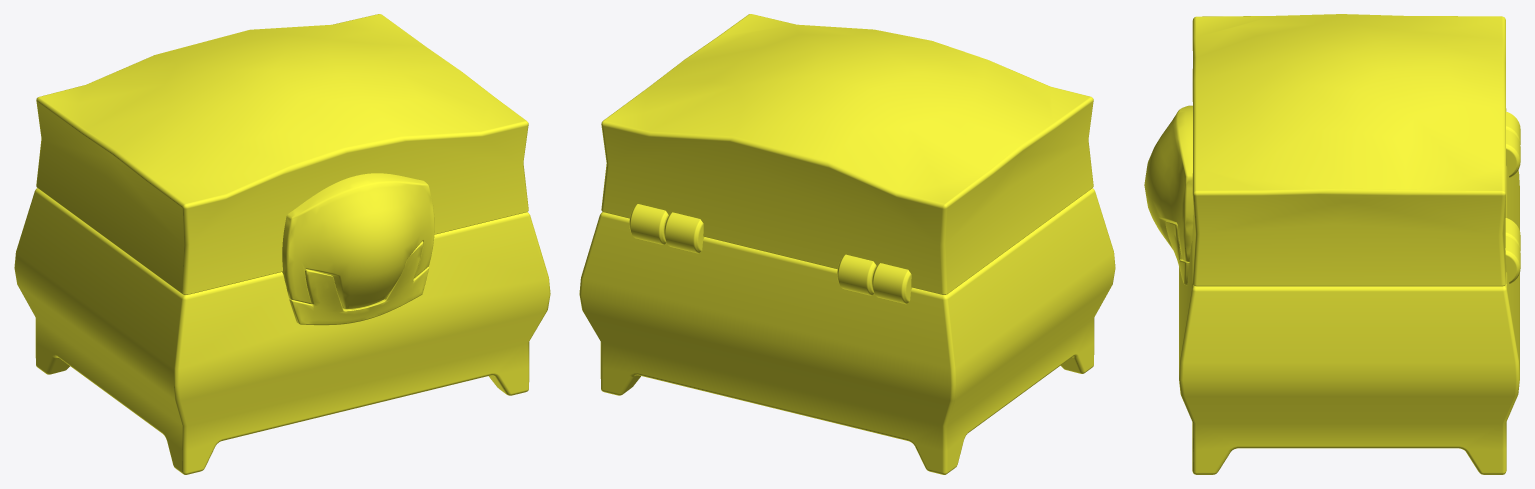
Rendered from chest-3.glb.
The picture shows the model from 3 angles, left to right: view 1: azimuth 30°, elevation 25°; view 2: azimuth 150°, elevation 25°; view 3: azimuth 270°, elevation 25°; orthographic projection. The views are drawn at different scales.
Visible parts, largest first — view 1: lid.002, chest.002, lock top.002, lock bottom.002; view 2: lid.002, chest.002, hinges.002; view 3: lid.002, chest.002, lock top.002, hinges.002, lock bottom.002.
Boxes of the visible parts, left/top/right/bottom form: lid.002: left=36, top=14, right=528, bottom=294; chest.002: left=14, top=188, right=550, bottom=474; lock top.002: left=282, top=173, right=434, bottom=309; lock bottom.002: left=289, top=241, right=429, bottom=325; lid.002: left=601, top=14, right=1093, bottom=294; chest.002: left=579, top=188, right=1115, bottom=474; hinges.002: left=629, top=204, right=911, bottom=304; lid.002: left=1192, top=14, right=1506, bottom=286; chest.002: left=1179, top=166, right=1519, bottom=474; lock top.002: left=1144, top=105, right=1193, bottom=261; hinges.002: left=1505, top=111, right=1520, bottom=284; lock bottom.002: left=1165, top=221, right=1189, bottom=285.
Bounding box in the file's own units: 1.17 × 0.9284 × 0.967.
